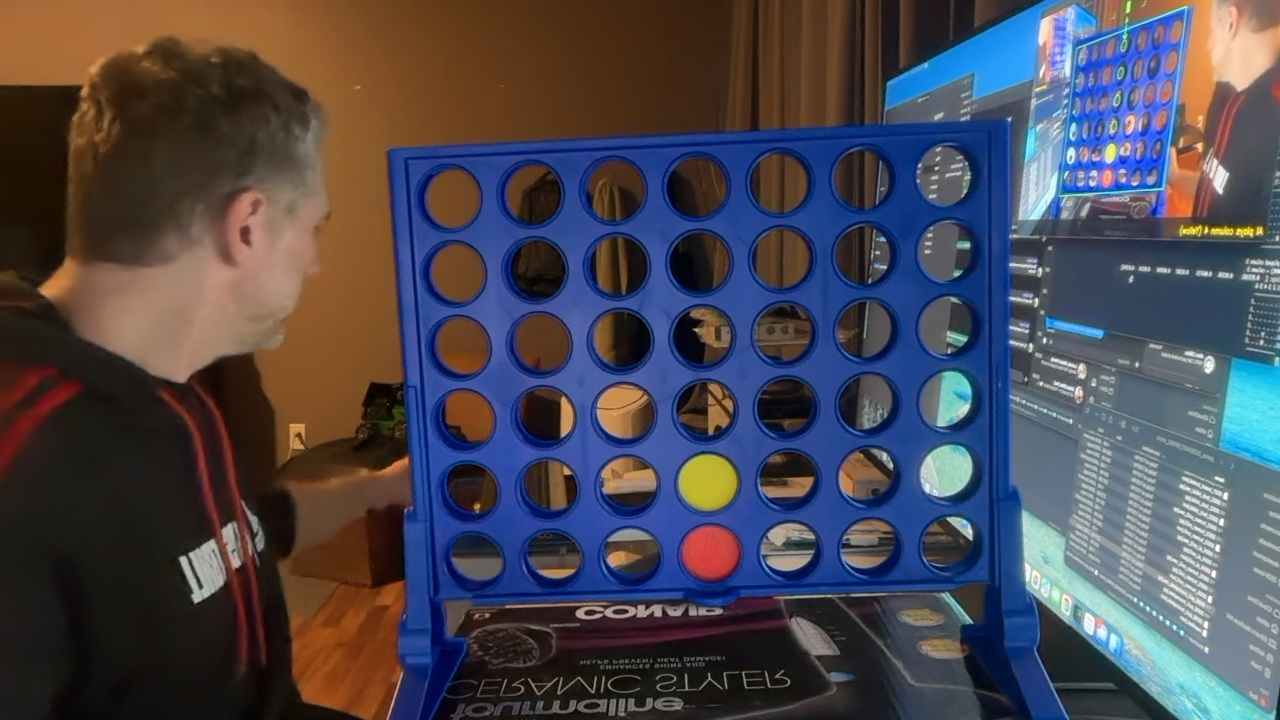red piece: (680, 524, 741, 582)
yellow piece: (677, 453, 738, 511)
